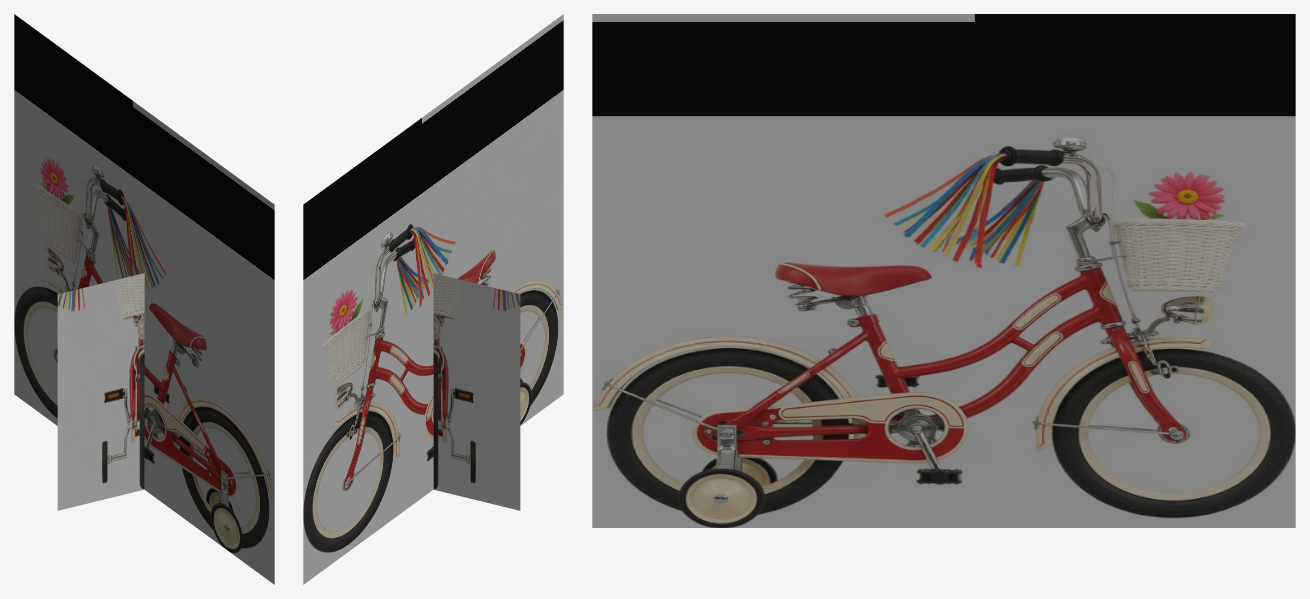
The model's file is child_bicycle.glb.
3 views of the same model, side by side, from view 1: azimuth 30°, elevation 25°; view 2: azimuth 150°, elevation 25°; view 3: azimuth 270°, elevation 25° (orthographic). The views are drawn at different scales.
Visible parts, largest first — view 1: child_bicycle; view 2: child_bicycle; view 3: child_bicycle.
Part boxes in pixels (x1=…): child_bicycle: x1=14, y1=14, x2=274, y2=584; child_bicycle: x1=303, y1=14, x2=563, y2=584; child_bicycle: x1=592, y1=14, x2=1295, y2=527.
Size of the model in its own units: 0.499 by 1.05 by 1.3.
Materials: 1 (1 with a texture image).
